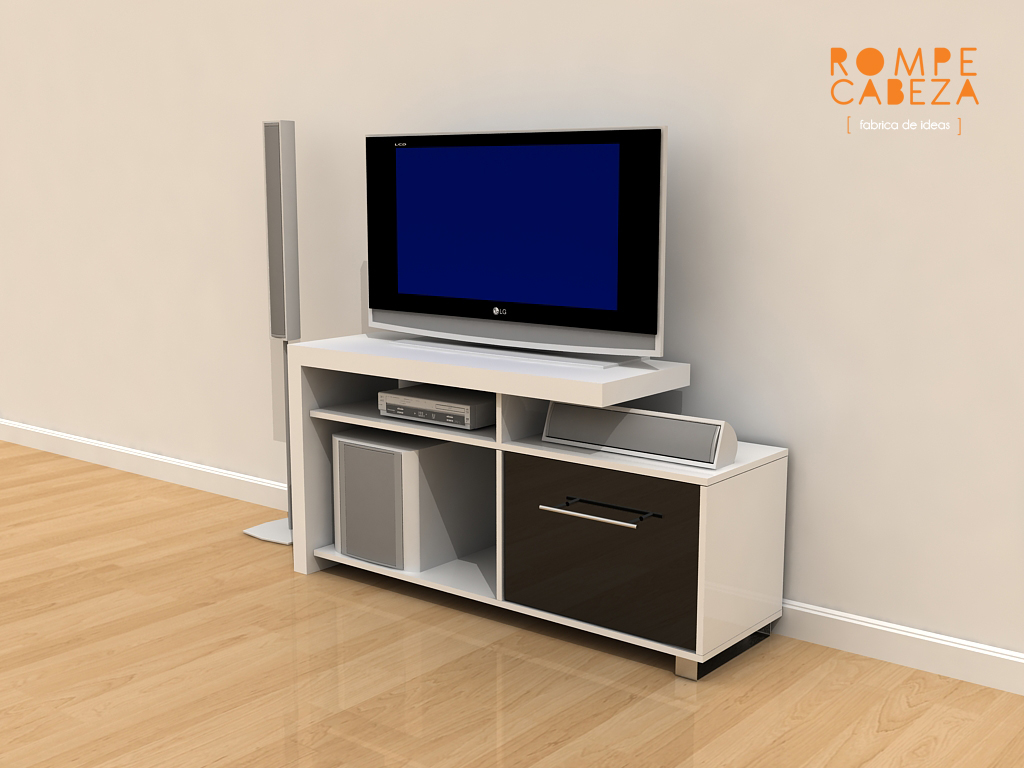tv monitor: (356, 135, 673, 375)
